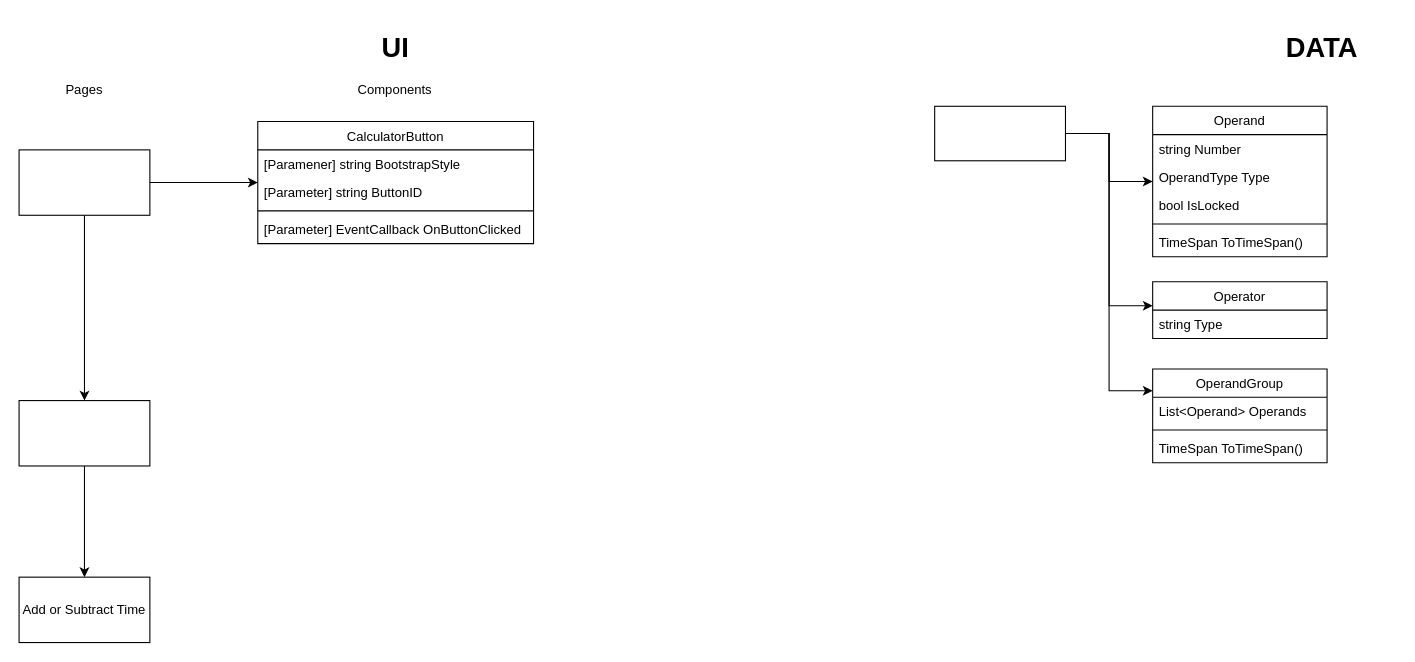
This 1415x662 diagram has some shape labels left out. The shapes that lost their labels are listed below. From the top down, each one's centre as x and y in pixels, then its label:
the point at 999,133: «interface» IMathComponent
the point at 84,182: Time Calculator
the point at 84,432: Time Between
